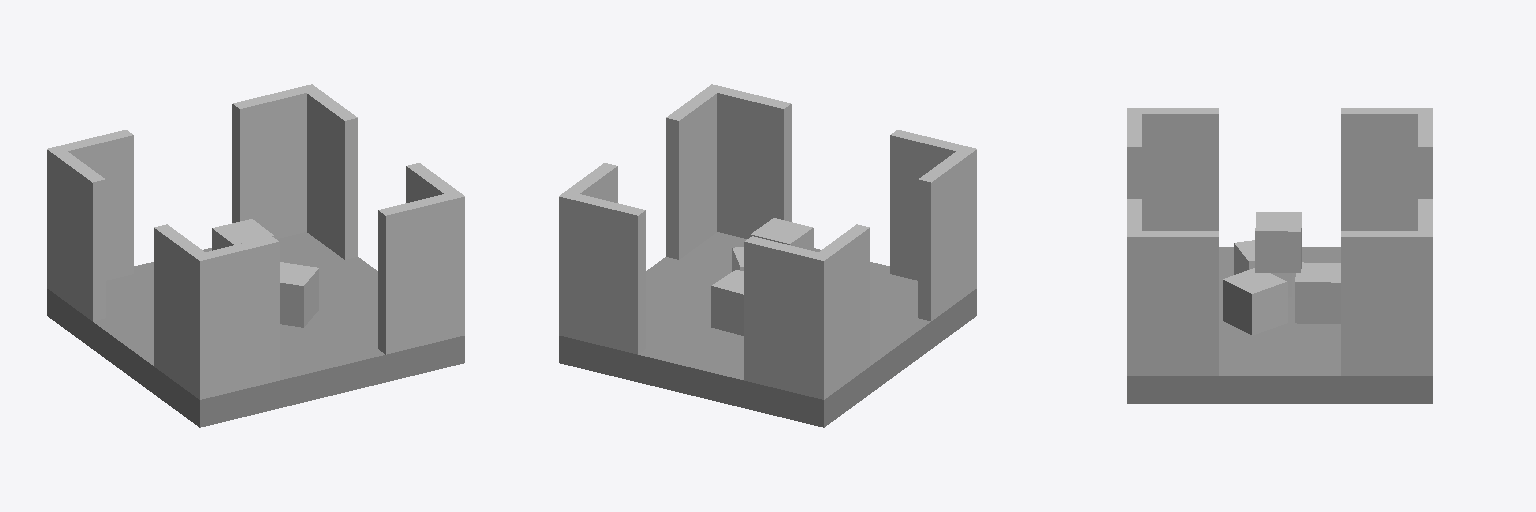
Rendered from big-room-4-exit_2.obj.
3 views of the same model, side by side, from view 1: azimuth 30°, elevation 25°; view 2: azimuth 150°, elevation 25°; view 3: azimuth 270°, elevation 25° (orthographic).
Visible parts, largest first — view 1: Cube.005, Cube, Cube.002_Cube.006, Cube.004_Cube.008; view 2: Cube.005, Cube, Cube.001_Cube.005, Cube.004_Cube.008; view 3: Cube.005, Cube, Cube.002_Cube.006, Cube.004_Cube.008, Cube.001_Cube.005, Cube_Cube.004.
Boxes of the visible parts, box(x1,y1,x2,y2) form: Cube.005: box(47, 84, 464, 399); Cube: box(47, 232, 464, 427); Cube.002_Cube.006: box(280, 262, 318, 327); Cube.004_Cube.008: box(212, 219, 274, 250); Cube.005: box(559, 84, 976, 399); Cube: box(559, 232, 976, 427); Cube.001_Cube.005: box(711, 270, 743, 335); Cube.004_Cube.008: box(750, 218, 813, 250); Cube.005: box(1127, 108, 1432, 375); Cube: box(1127, 247, 1432, 403); Cube.002_Cube.006: box(1223, 268, 1287, 335); Cube.004_Cube.008: box(1255, 212, 1301, 272); Cube.001_Cube.005: box(1295, 262, 1340, 323); Cube_Cube.004: box(1234, 240, 1291, 297).
Bounding box in the file's own units: 10 × 6 × 10.